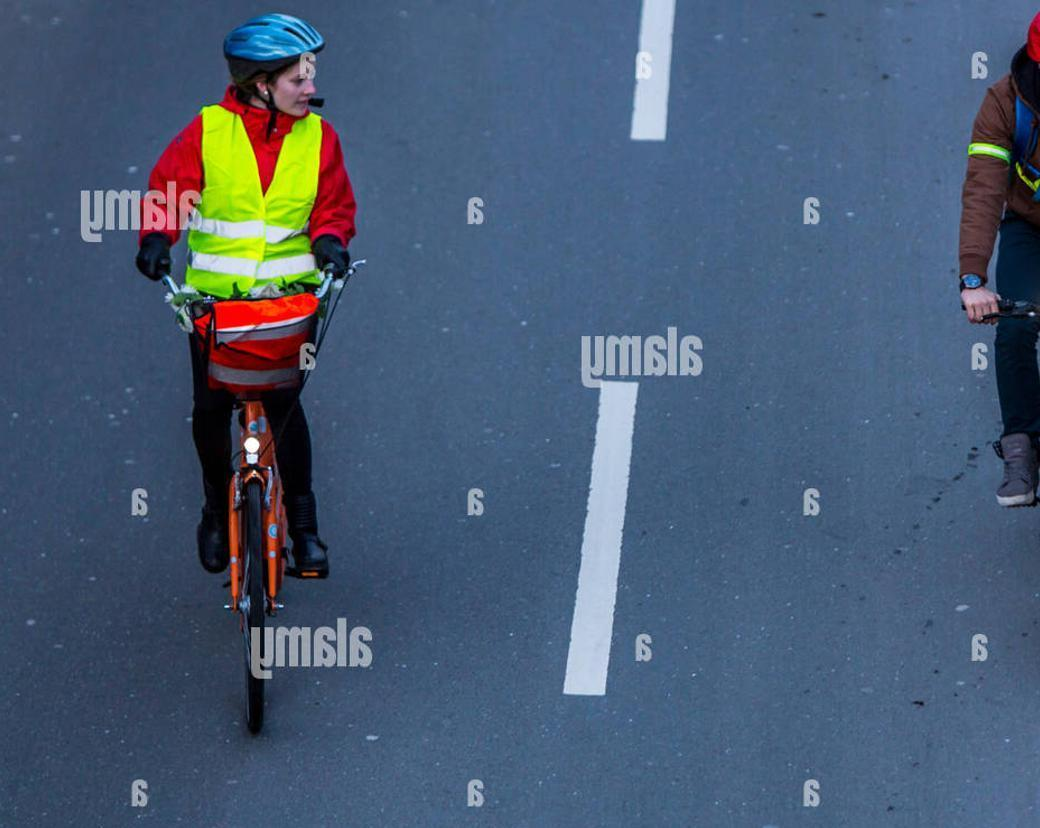Vest: (173, 110, 336, 298)
